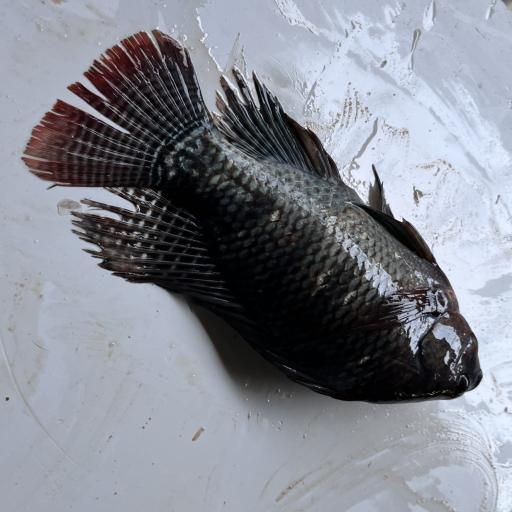Tilapia: (21, 29, 483, 405)
